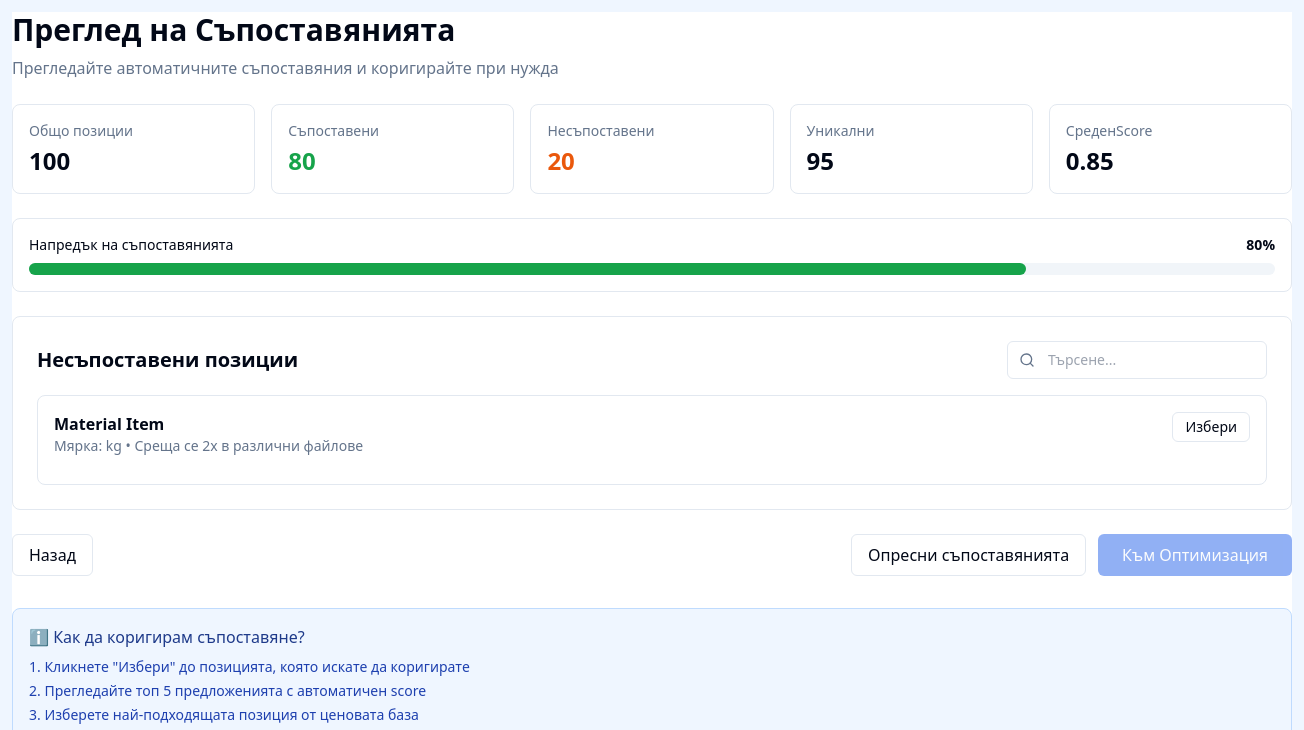
Test: MatchPage › displays top candidate details (price, unit, score)
Expected: the heading "Material Item" is shown, [54,413,164,435]
Expand to see details
Click the button "Избери".
click(1211, 427)  # box [1172,412,1250,442]
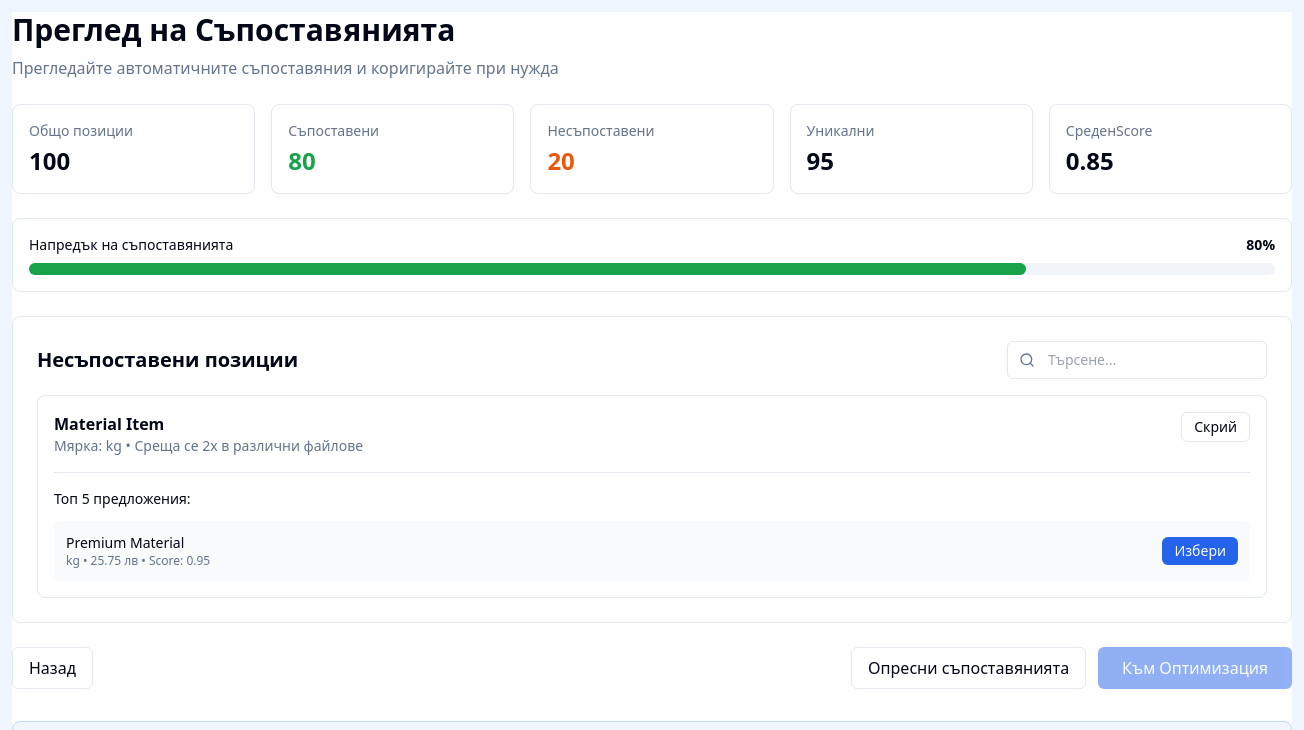
Now the text "Premium Material" is shown, box [66,533,184,552]
Now the text "kg • 25.75 лв • Score: 0.95" is shown, box [66,552,210,569]
